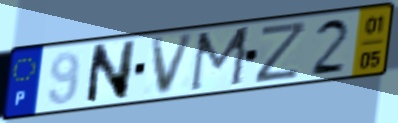2: (306, 17, 354, 76)
9: (46, 50, 85, 107)
M: (186, 24, 255, 95)
N: (83, 38, 139, 107)
V: (149, 31, 198, 99)
Z: (253, 19, 311, 86)
